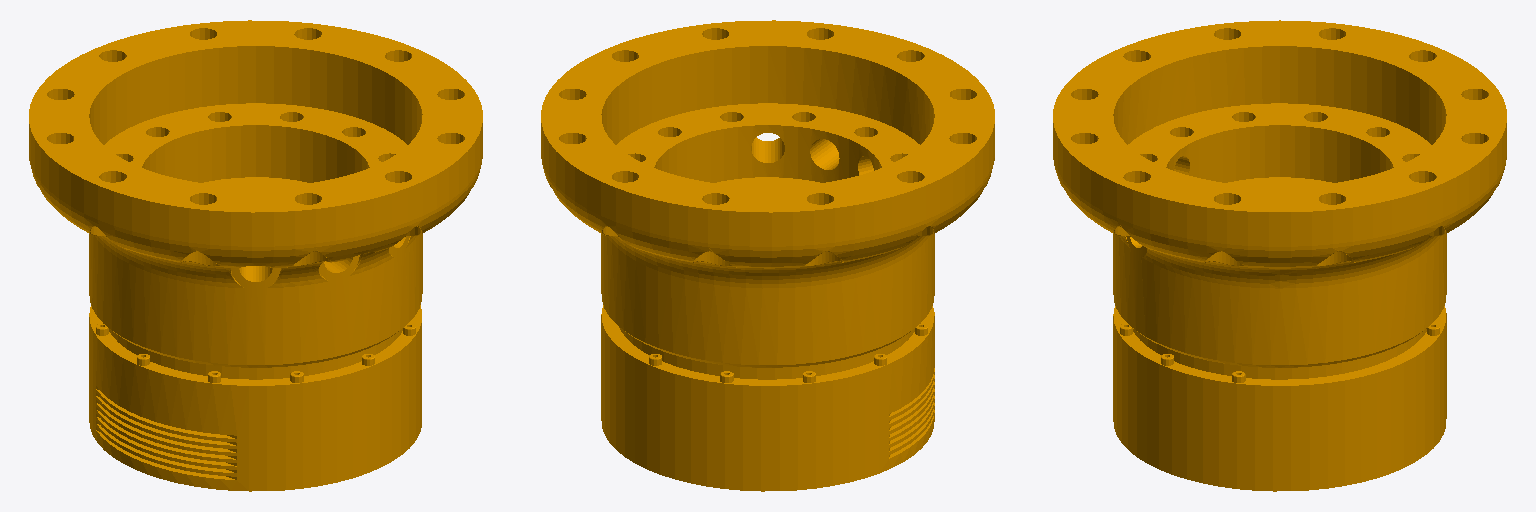
The robot description file, URDF, robot "hermesArm":
<?xml version="1.0"?>
<robot name="hermesArm">

 <!-- **************************** BASE ***************************** -->
 <link name="Base">
    <inertial>
      <origin xyz="0 0 0" /> 
      <mass value="1.0" />
      <inertia  ixx="1.0" ixy="0.0"  ixz="0.0"  iyy="1.0"  iyz="0.0"  izz="1.0" />
    </inertial>
    <visual>
      <origin xyz="0 0 0"/>
      <geometry>
        <mesh filename="package://hermesArmKDL/stl/BaseSchunk.stl" />
      </geometry>
    </visual>
    <collision>
      <origin rpy="0 0 0" xyz="0 0 0"/>
      <geometry>
        <mesh filename="package://hermesGazebo/stl/BaseSchunkLow.stl" />
      </geometry>
    </collision>
  </link>

</robot>

<!-- **************************** Link 1 ***************************** -->

--- What the picture shows (computed from the rendered views, not written in the file) ---
The picture shows the robot from 3 angles, left to right: view 1: azimuth 30°, elevation 25°; view 2: azimuth 150°, elevation 25°; view 3: azimuth 270°, elevation 25°; orthographic projection.
Robot: hermesArm — 1 links, 0 joints (none); root link Base; default pose: every joint at zero.
Links seen in each view (by area): view 1: Base; view 2: Base; view 3: Base.
Boxes of the visible links, x1=… form: Base: x1=29, y1=20, x2=482, y2=491; Base: x1=541, y1=20, x2=994, y2=491; Base: x1=1053, y1=20, x2=1506, y2=491.
Bounding box of the posed robot: 0.1799 × 0.18 × 0.1331 m (x, y, z).
1 mesh visuals loaded from 1 distinct referenced files (1 binary STL).